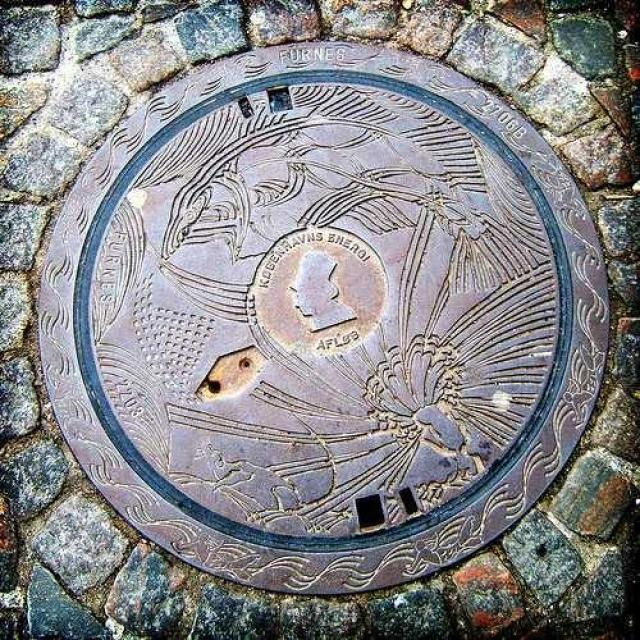manhole: (40, 42, 609, 593)
